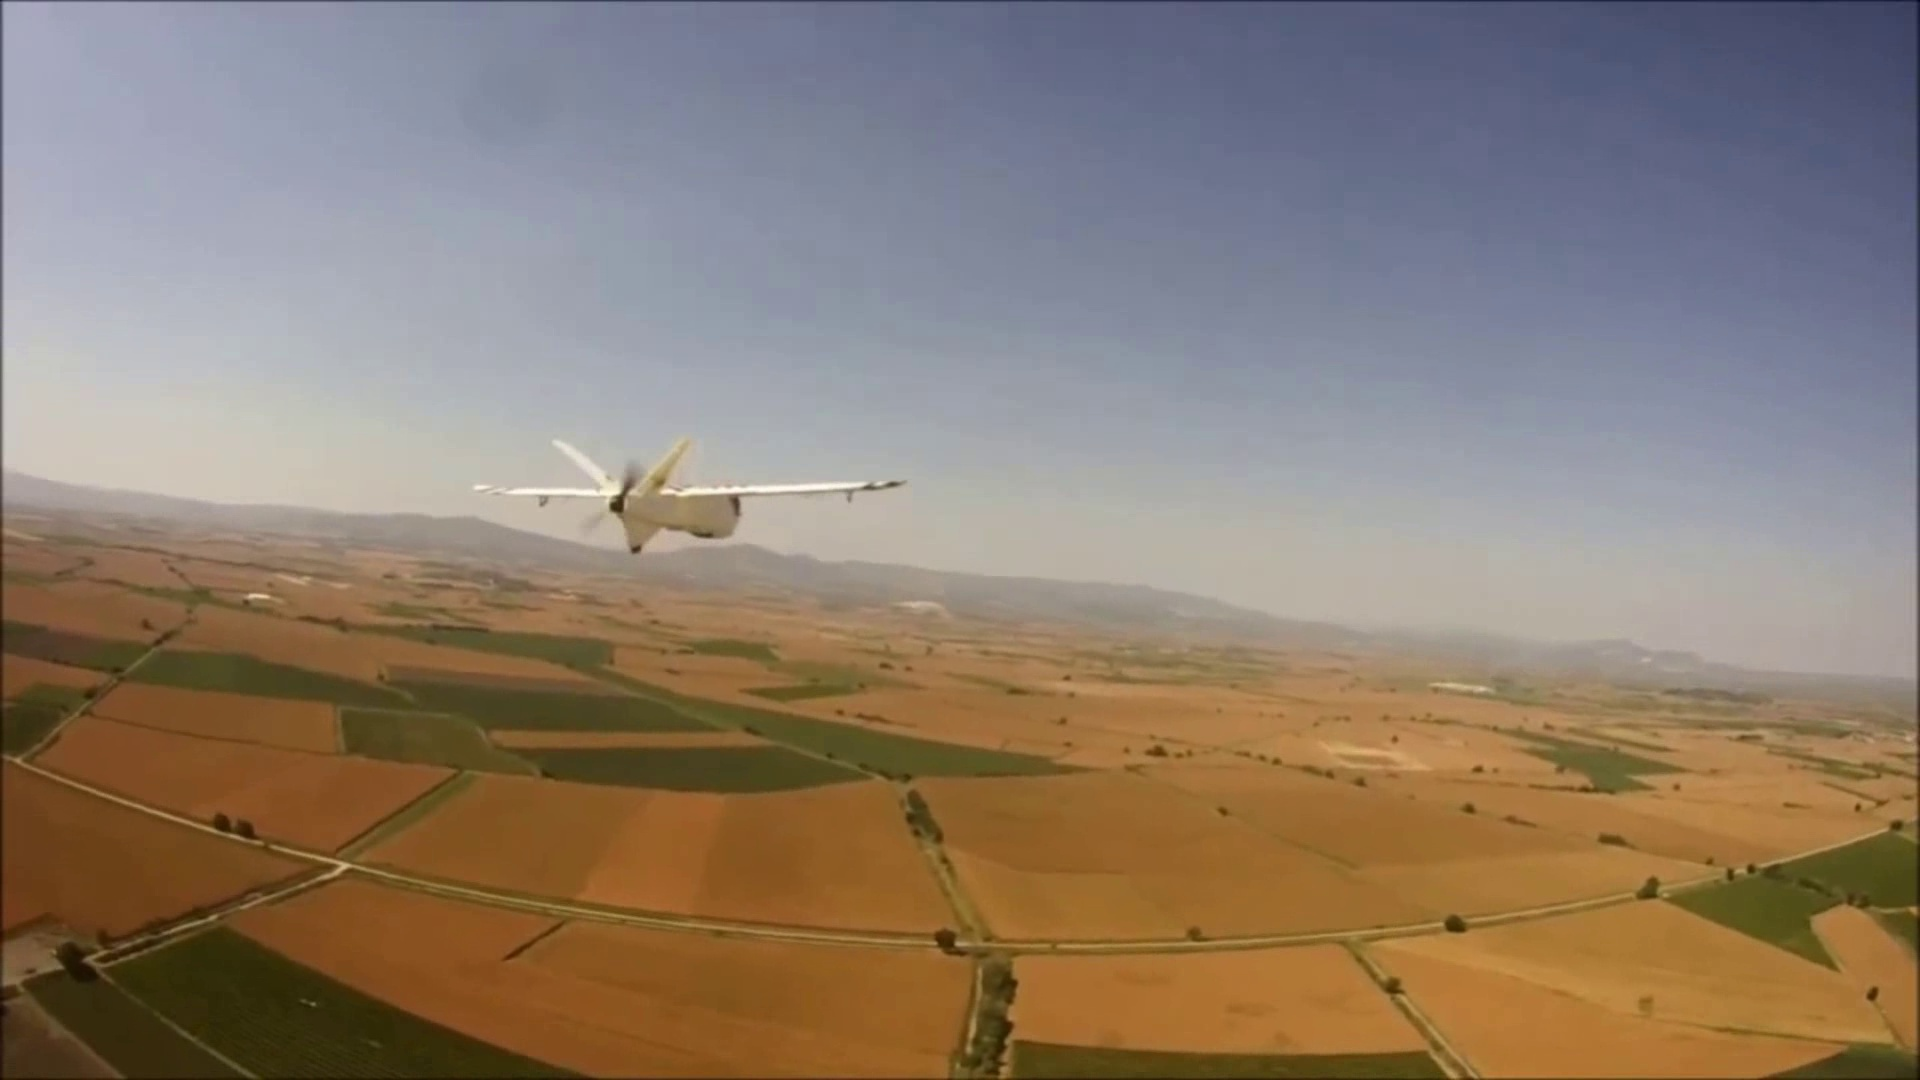airplane: (464, 435, 909, 555)
